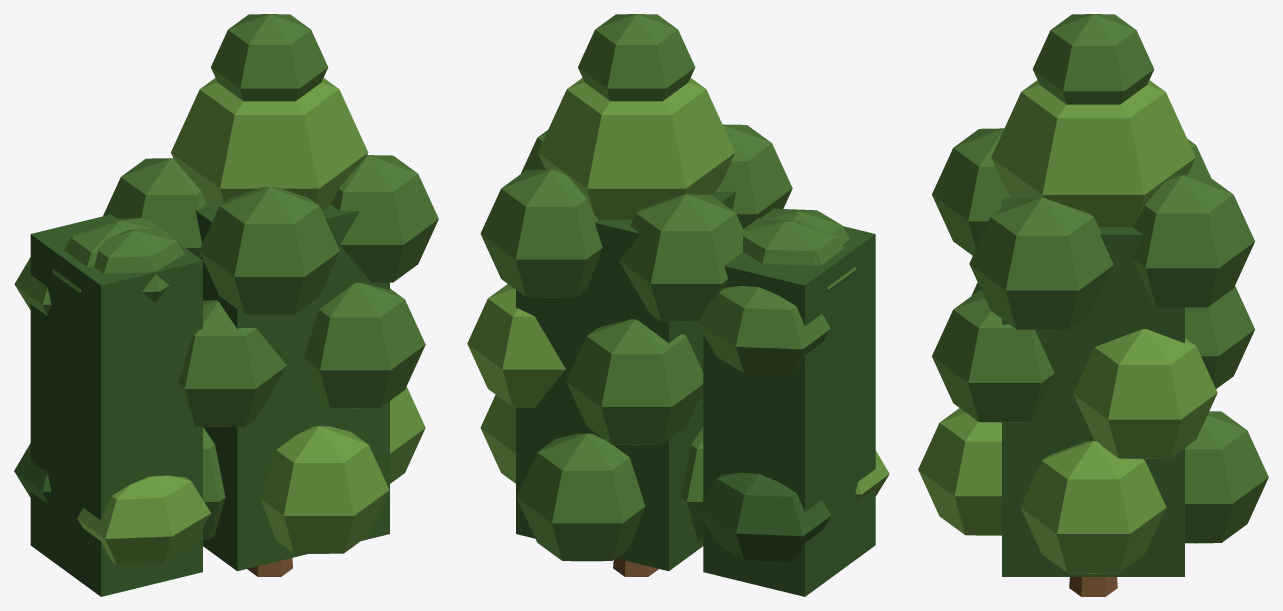
File: hedge_end.glb
3 views of the same model, side by side, from view 1: azimuth 30°, elevation 25°; view 2: azimuth 150°, elevation 25°; view 3: azimuth 270°, elevation 25° (orthographic). The views are drawn at different scales.
Visible parts, largest first — view 1: wall_hedge_end; view 2: wall_hedge_end; view 3: wall_hedge_end.
Part boxes in pixels (box(x1,y1,x2,y2)): wall_hedge_end: box(14, 14, 438, 596); wall_hedge_end: box(467, 14, 889, 596); wall_hedge_end: box(918, 14, 1268, 596).
Size of the model in its own units: 1.72 by 2.6 by 1.44.
